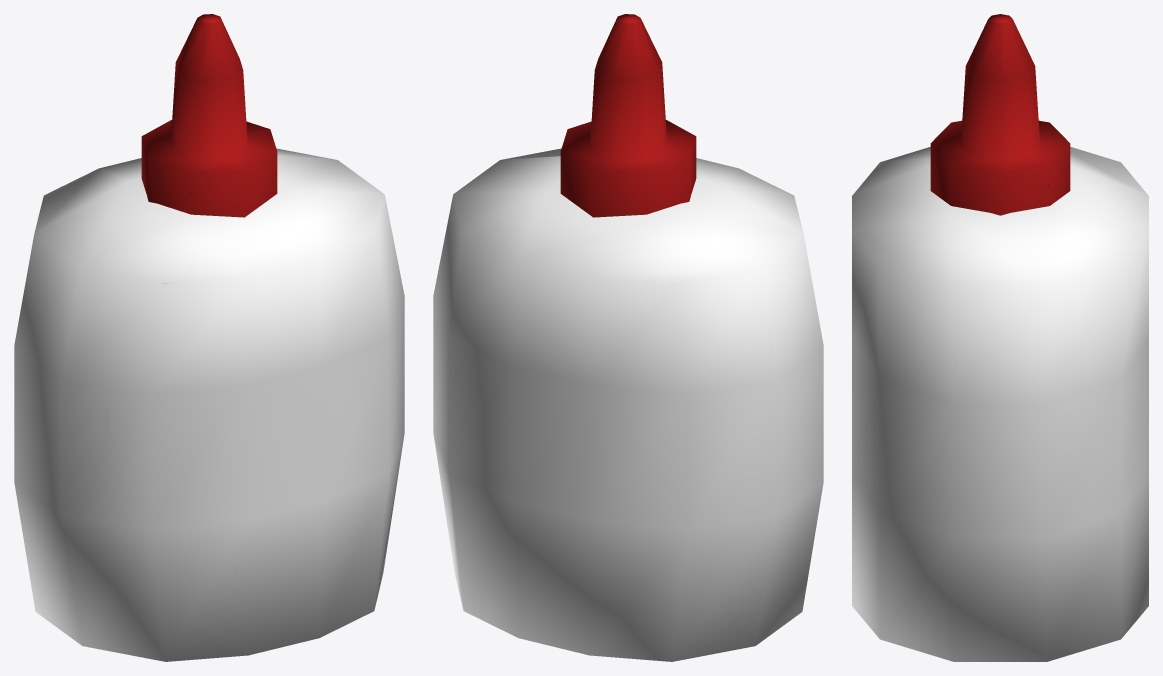
File: bottleOfGlue.fbx
The picture shows the model from 3 angles, left to right: view 1: azimuth 30°, elevation 25°; view 2: azimuth 150°, elevation 25°; view 3: azimuth 270°, elevation 25°; orthographic projection.
Parts seen in each view (by area): view 1: bottleOfGlue; view 2: bottleOfGlue; view 3: bottleOfGlue.
Boxes of the visible parts, bbox=[...] form: bottleOfGlue: bbox=[14, 14, 404, 661]; bottleOfGlue: bbox=[433, 14, 823, 661]; bottleOfGlue: bbox=[852, 14, 1148, 661].
Size of the model in its own units: 23.01 by 36.65 by 17.3.
